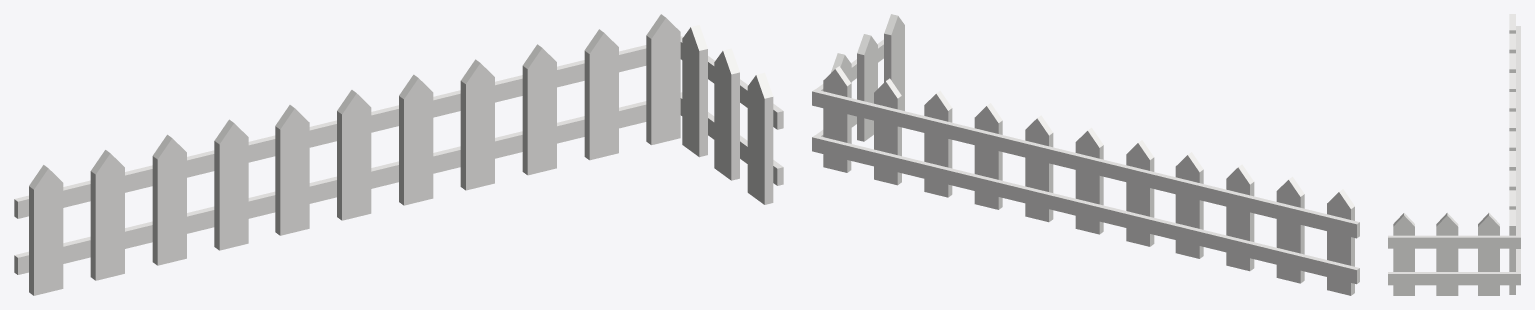
File: Fence_2_231109.glb
3 views of the same model, side by side, from view 1: azimuth 30°, elevation 25°; view 2: azimuth 150°, elevation 25°; view 3: azimuth 270°, elevation 25° (orthographic). The views are drawn at different scales.
Parts seen in each view (by area): view 1: Fence_2; view 2: Fence_2; view 3: Fence_2.
Part boxes in pixels (bbox=[...]): Fence_2: bbox=[14, 14, 783, 295]; Fence_2: bbox=[812, 14, 1359, 295]; Fence_2: bbox=[1388, 14, 1520, 295].
Bounding box in the file's own units: 4.62 × 0.8203 × 1.22.
Materials: 1 (1 with a texture image).
